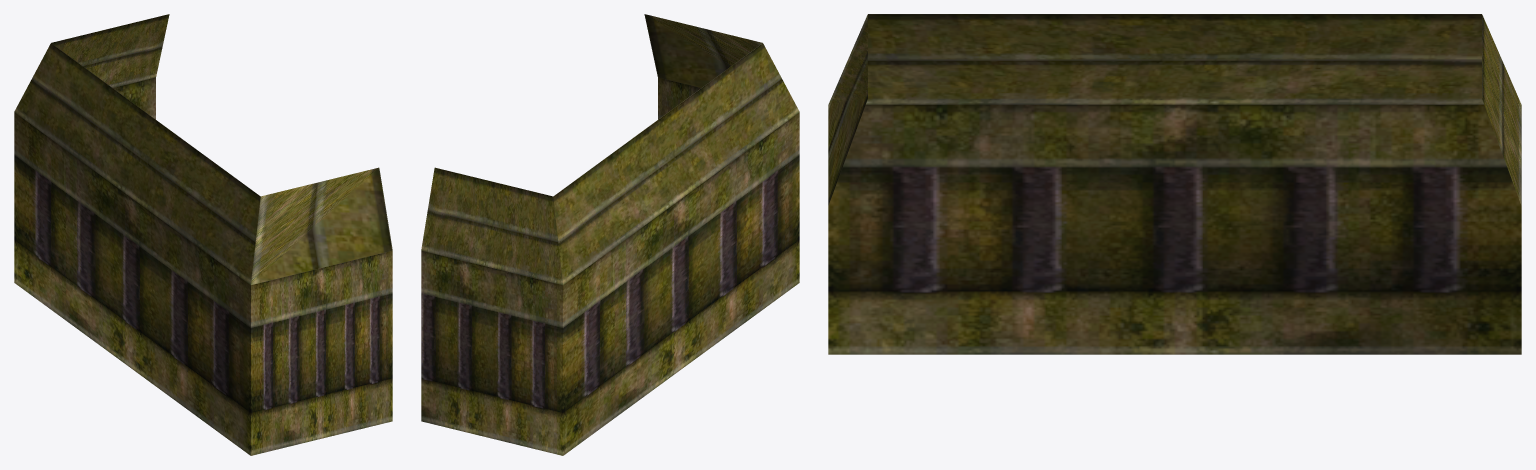
The model's file is OVERHILL_A_01_OBJECT189.fbx.
The picture shows the model from 3 angles, left to right: view 1: azimuth 30°, elevation 25°; view 2: azimuth 150°, elevation 25°; view 3: azimuth 270°, elevation 25°; orthographic projection. The views are drawn at different scales.
Parts seen in each view (by area): view 1: OVERHILL_A_01_OBJECT189; view 2: OVERHILL_A_01_OBJECT189; view 3: OVERHILL_A_01_OBJECT189.
Boxes of the visible parts, <box> form: OVERHILL_A_01_OBJECT189: <box>14,14,392,455</box>; OVERHILL_A_01_OBJECT189: <box>421,14,799,455</box>; OVERHILL_A_01_OBJECT189: <box>828,14,1521,354</box>.
Bounding box in the file's own units: 9153 × 15038 × 26437.
Materials: 2 (2 with a texture image).
